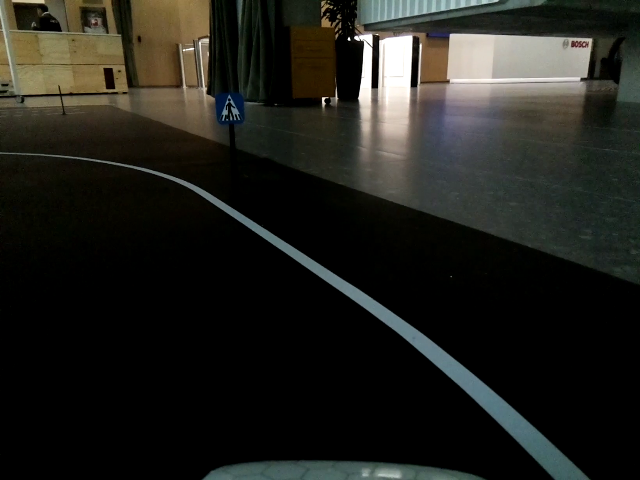pedestrians: (216, 94, 247, 124)
